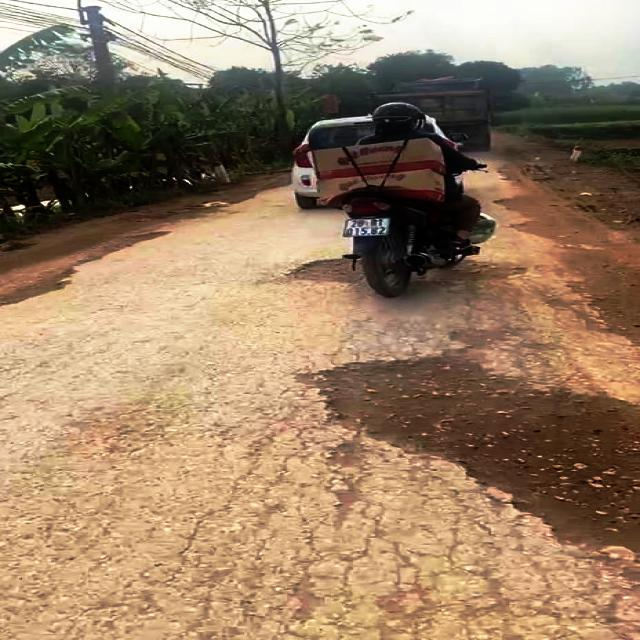pothole: (295, 356, 640, 559), (0, 230, 177, 312), (272, 250, 531, 289), (495, 195, 582, 248)
